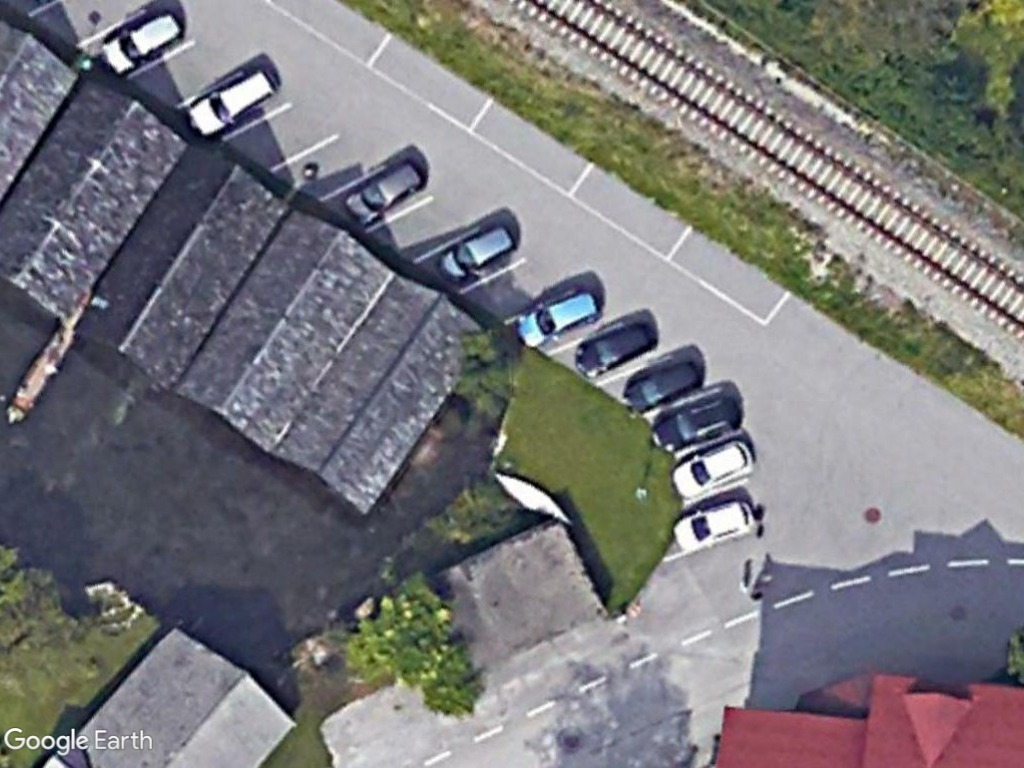car: (182, 61, 283, 143), (335, 156, 432, 230), (93, 5, 191, 77), (664, 433, 761, 505), (647, 389, 749, 457), (426, 219, 522, 287), (510, 284, 604, 353), (667, 493, 763, 556), (619, 353, 708, 419), (569, 318, 661, 381)
